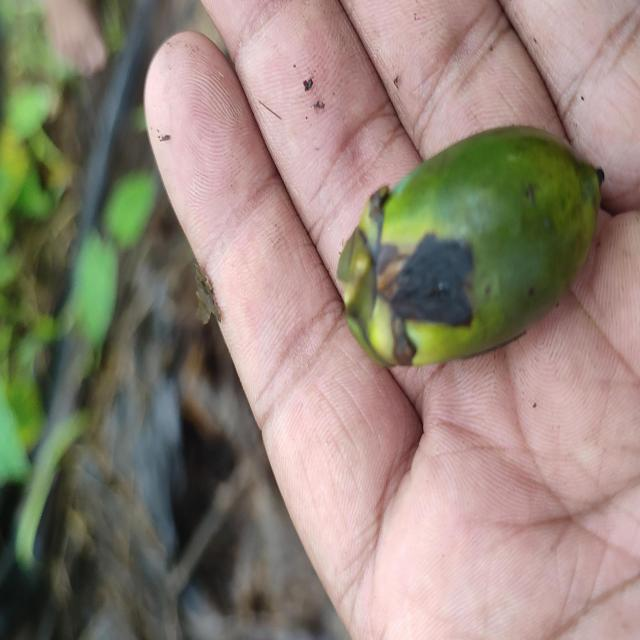damaged: (332, 126, 604, 370)
